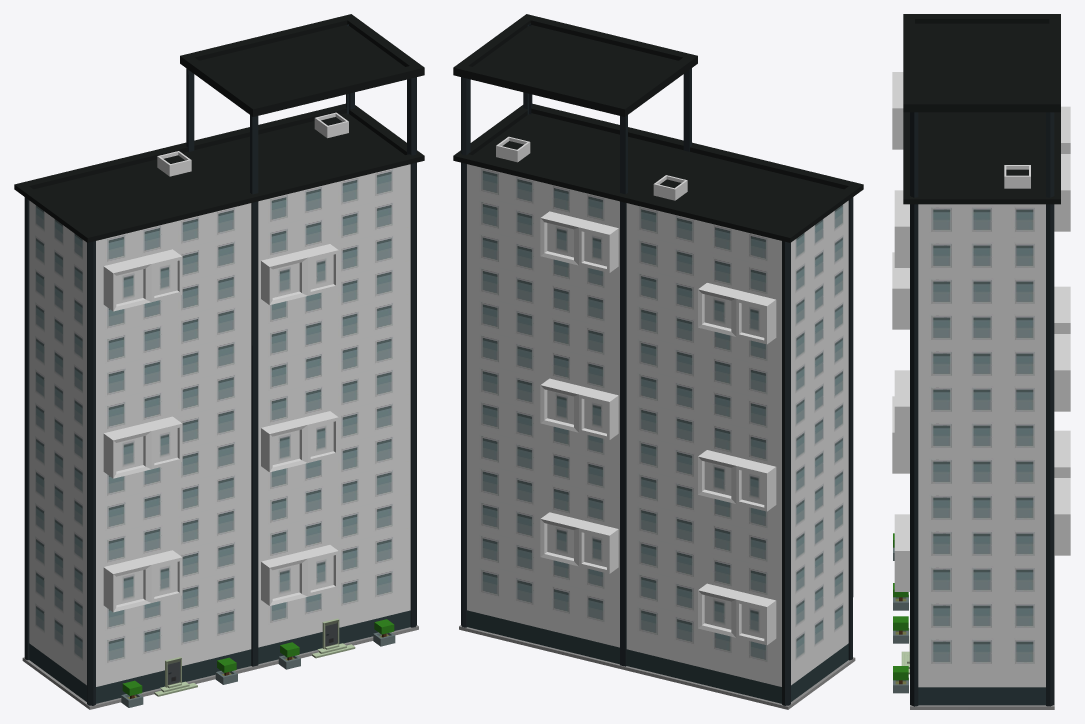
Rendered from apartment_3.glb.
3 views of the same model, side by side, from view 1: azimuth 30°, elevation 25°; view 2: azimuth 150°, elevation 25°; view 3: azimuth 270°, elevation 25° (orthographic). The views are drawn at different scales.
Parts seen in each view (by area): view 1: Pair House White High; view 2: Pair House White High; view 3: Pair House White High.
Part boxes in pixels (x1,y1,x2,y2): Pair House White High: [14, 14, 424, 709]; Pair House White High: [453, 14, 863, 709]; Pair House White High: [892, 14, 1070, 709].
Bounding box in the file's own units: 1.07 × 1.71 × 0.4556.
Materials: 1 (1 with a texture image).
